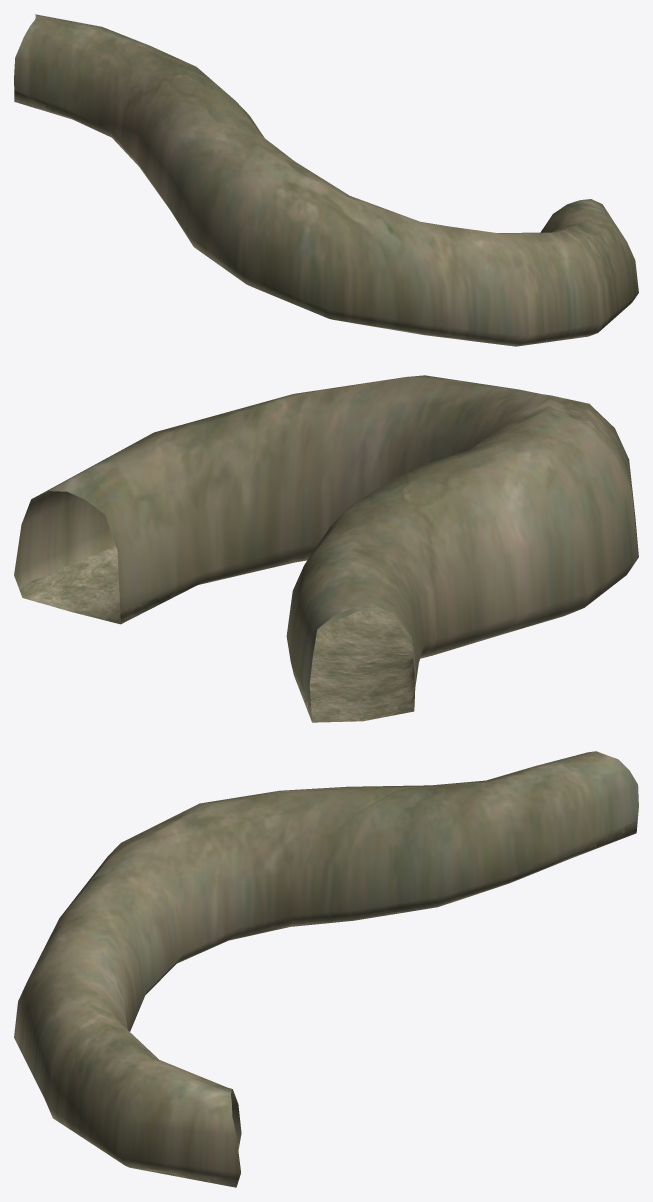
Rendered from EKH_GROTTO_PS_GR_TUNNEL1.fbx.
3 views of the same model, one above another, from view 1: azimuth 30°, elevation 25°; view 2: azimuth 150°, elevation 25°; view 3: azimuth 270°, elevation 25° (orthographic). The views are drawn at different scales.
Parts seen in each view (by area): view 1: EKH_GROTTO_PS_GR_TUNNEL1; view 2: EKH_GROTTO_PS_GR_TUNNEL1; view 3: EKH_GROTTO_PS_GR_TUNNEL1.
Part boxes in pixels (bbox=[...]): EKH_GROTTO_PS_GR_TUNNEL1: bbox=[14, 14, 638, 346]; EKH_GROTTO_PS_GR_TUNNEL1: bbox=[14, 375, 638, 722]; EKH_GROTTO_PS_GR_TUNNEL1: bbox=[14, 751, 638, 1187].
Bounding box in the file's own units: 130754 × 64201 × 155791.
1 material, 1 textured.
